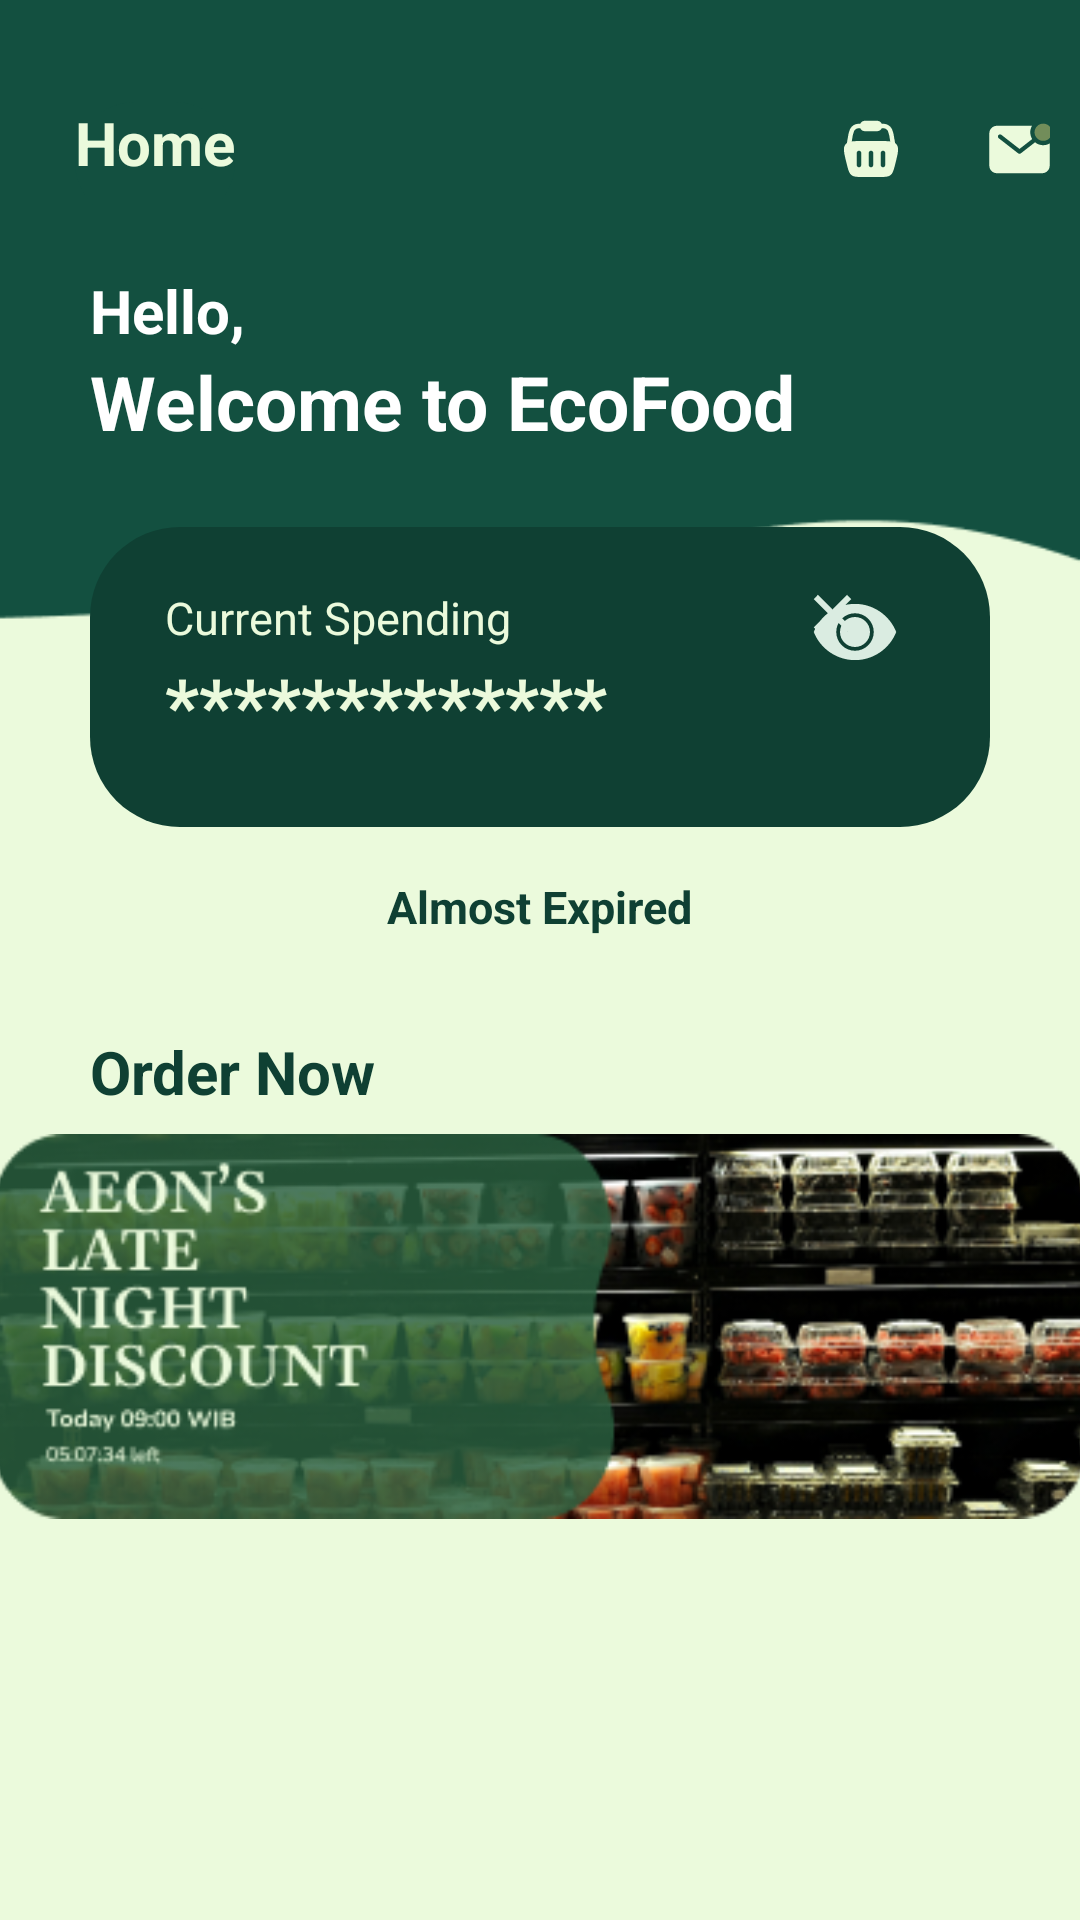

Named icons in this screenshot (1080px×1920px) and their centers, (x,y):
eye closed: (855,627)
